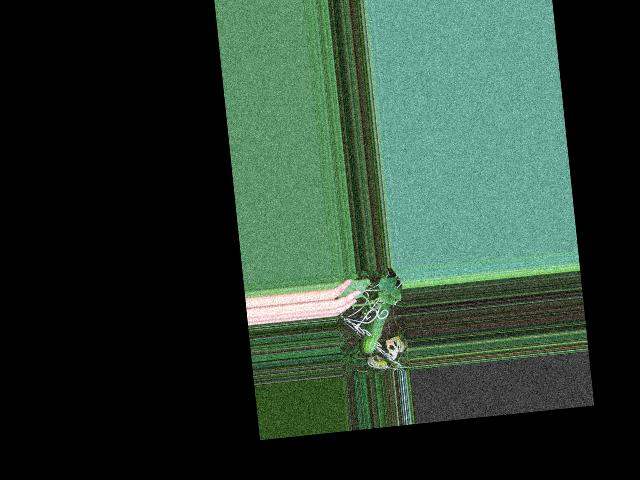cucumber: (356, 302, 394, 353)
